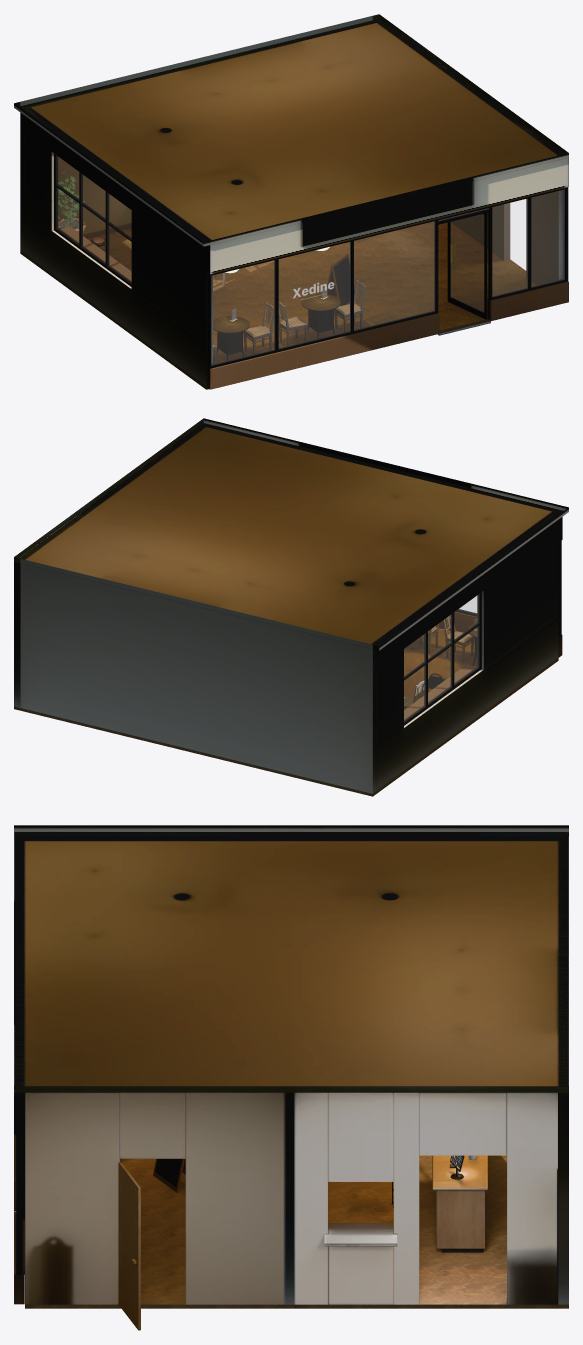
File: world-ca.glb
3 renders of one model, top to bottom at view 1: azimuth 30°, elevation 25°; view 2: azimuth 150°, elevation 25°; view 3: azimuth 270°, elevation 25°, orthographic. The views are drawn at different scales.
Parts seen in each view (by area): view 1: BK_ca_room, BK_ca_floor, SM_Shopfront_Glass_L, SM_Shopfront_Glass_R, BK_ca_dining, SM_Window_Glass, SM_Door_Glass, potted_plant_01; view 2: BK_ca_room, SM_Window_Glass, BK_ca_floor, BK_ca_dining; view 3: BK_ca_room, BK_ca_floor, BK_ca_counter, BK_ca_dining.
Boxes of the visible parts, left/top/right/bottom form: BK_ca_room: left=14, top=14, right=568, bottom=389; BK_ca_floor: left=20, top=218, right=536, bottom=389; SM_Shopfront_Glass_L: left=211, top=221, right=434, bottom=365; SM_Shopfront_Glass_R: left=492, top=190, right=564, bottom=296; BK_ca_dining: left=90, top=236, right=366, bottom=364; SM_Window_Glass: left=56, top=156, right=131, bottom=282; SM_Door_Glass: left=450, top=214, right=483, bottom=312; potted_plant_01: left=58, top=172, right=86, bottom=234; BK_ca_room: left=14, top=418, right=568, bottom=793; SM_Window_Glass: left=404, top=595, right=478, bottom=721; BK_ca_floor: left=14, top=628, right=558, bottom=796; BK_ca_dining: left=404, top=615, right=477, bottom=709; BK_ca_room: left=14, top=825, right=568, bottom=1330; BK_ca_floor: left=25, top=1155, right=568, bottom=1308; BK_ca_counter: left=432, top=1155, right=487, bottom=1252; BK_ca_dining: left=153, top=1159, right=393, bottom=1207.
Bounding box in the file's own units: 9.3 × 3.36 × 7.6.
Materials: 15 (12 with a texture image).
